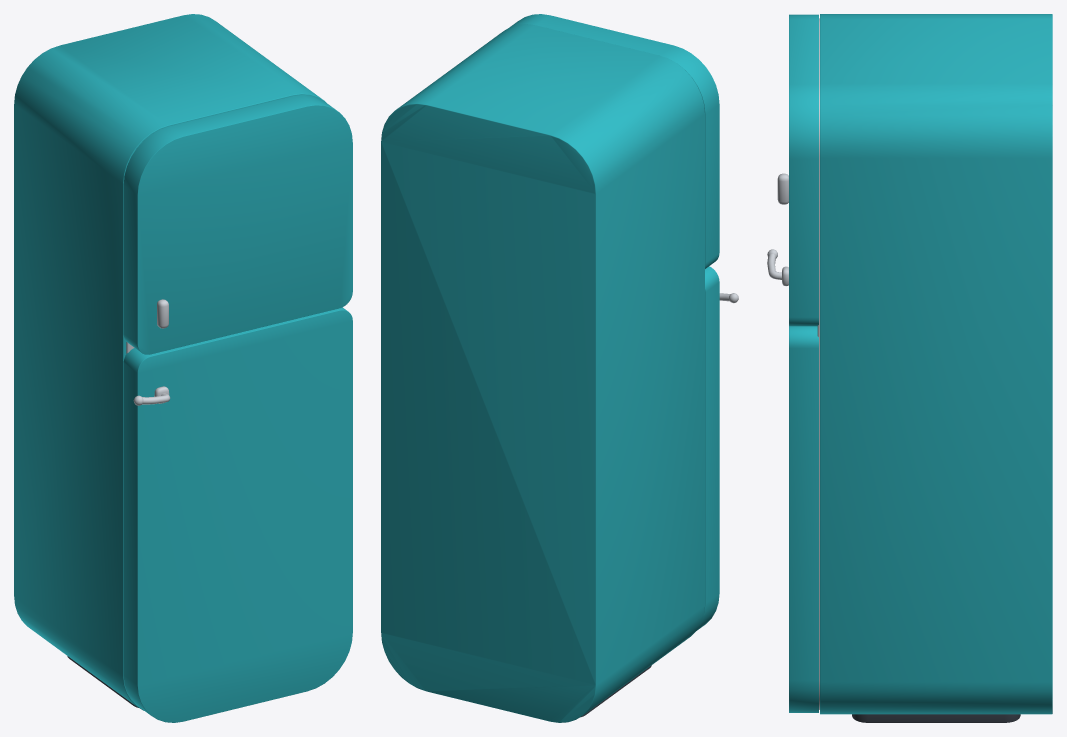
Rendered from geladeira_retro_redonda_turquesa.glb.
3 views of the same model, side by side, from view 1: azimuth 30°, elevation 25°; view 2: azimuth 150°, elevation 25°; view 3: azimuth 270°, elevation 25° (orthographic). The views are drawn at different scales.
Parts seen in each view (by area): view 1: porta_geladeira, geladeira_retro_redonda_turquesa, porta_congelador; view 2: geladeira_retro_redonda_turquesa, porta_congelador, porta_geladeira; view 3: geladeira_retro_redonda_turquesa, porta_geladeira, porta_congelador.
Part boxes in pixels (x1,y1,x2,y2): porta_geladeira: (123, 307, 352, 722); geladeira_retro_redonda_turquesa: (14, 14, 326, 710); porta_congelador: (123, 95, 352, 354); geladeira_retro_redonda_turquesa: (381, 24, 704, 722); porta_congelador: (510, 14, 719, 268); porta_geladeira: (697, 266, 738, 630); geladeira_retro_redonda_turquesa: (817, 14, 1052, 722); porta_geladeira: (767, 249, 818, 712); porta_congelador: (777, 14, 818, 326).
Bounding box in the file's own units: 0.6935 × 1.74 × 0.711.
1 material, 1 textured.
